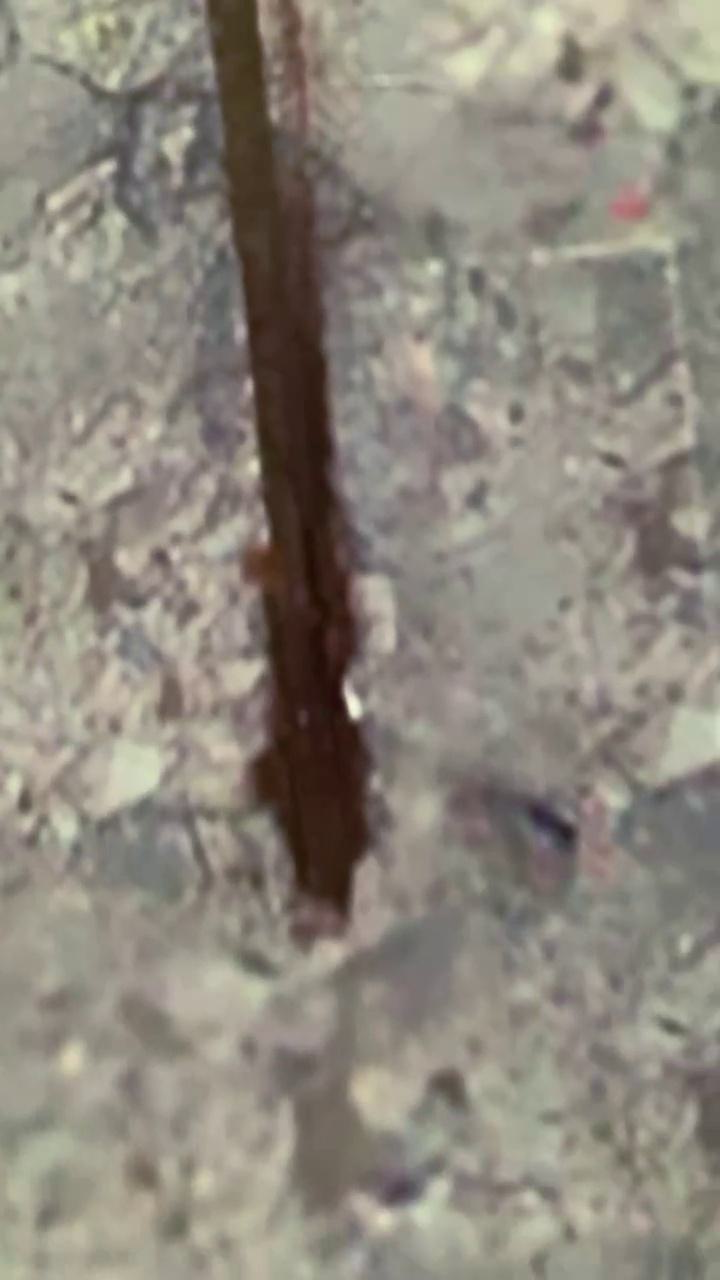Exposed reinforcement: (204, 1, 380, 923)
